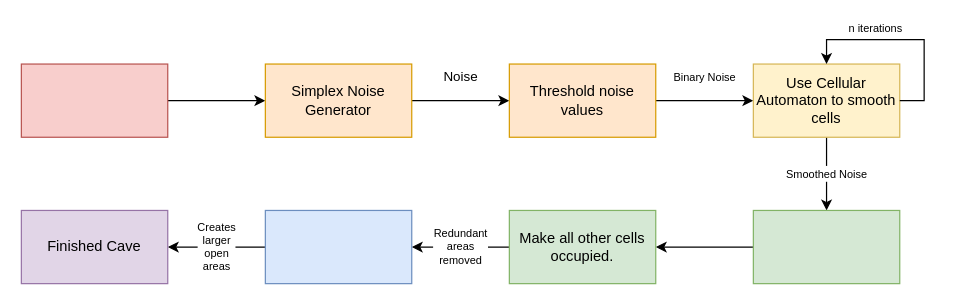
Image size: 955x305. Some labels were removed from this diagram. The box of each missing label's shape, as (x1, y1, x2, y2) in pixels:
Get random offset and scale values: (20, 63, 168, 137)
Use Flood Fill to find largest free area: (752, 209, 900, 284)
Use Flood Fill to remove non-border connected occupied cells.: (264, 209, 412, 284)
